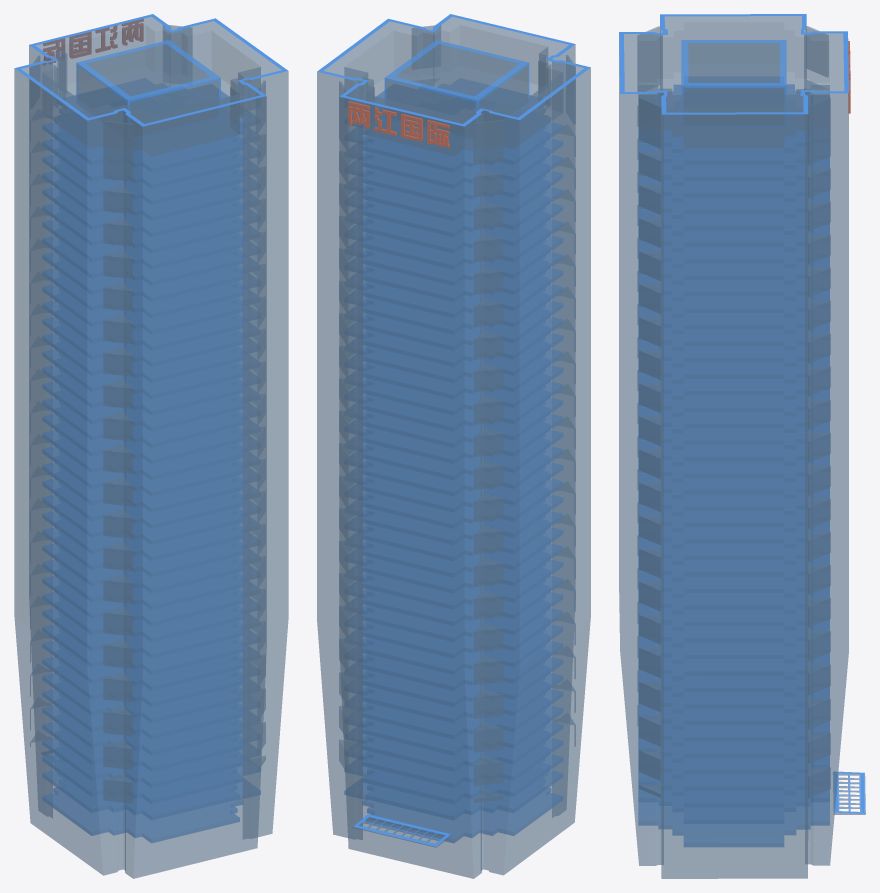
The picture shows the model from 3 angles, left to right: view 1: azimuth 30°, elevation 25°; view 2: azimuth 150°, elevation 25°; view 3: azimuth 270°, elevation 25°; orthographic projection.
Visible parts, largest first — view 1: 1004 2??; view 2: 1004 2??; view 3: 1004 2??.
Boxes of the visible parts, x1=… form: 1004 2??: x1=14, y1=14, x2=288, y2=878; 1004 2??: x1=317, y1=14, x2=590, y2=878; 1004 2??: x1=619, y1=14, x2=865, y2=878.
Bounding box in the file's own units: 50.38 × 180 × 52.17.
Materials: 4 (4 with a texture image).
